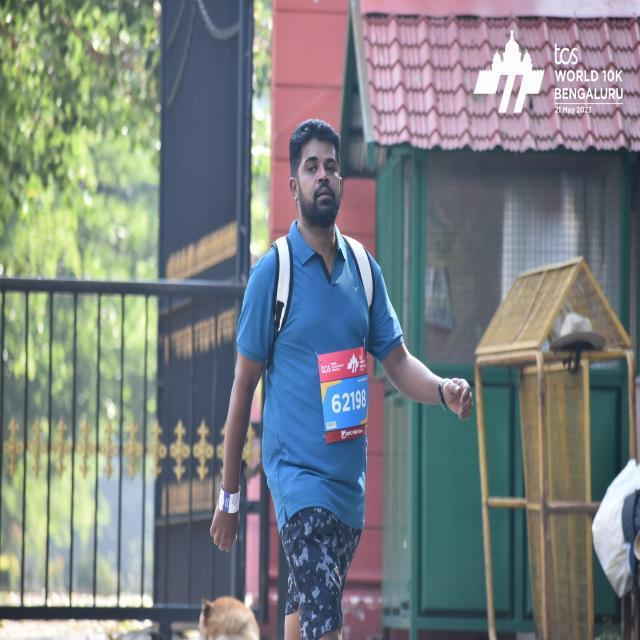dorsal: (312, 349, 373, 442)
